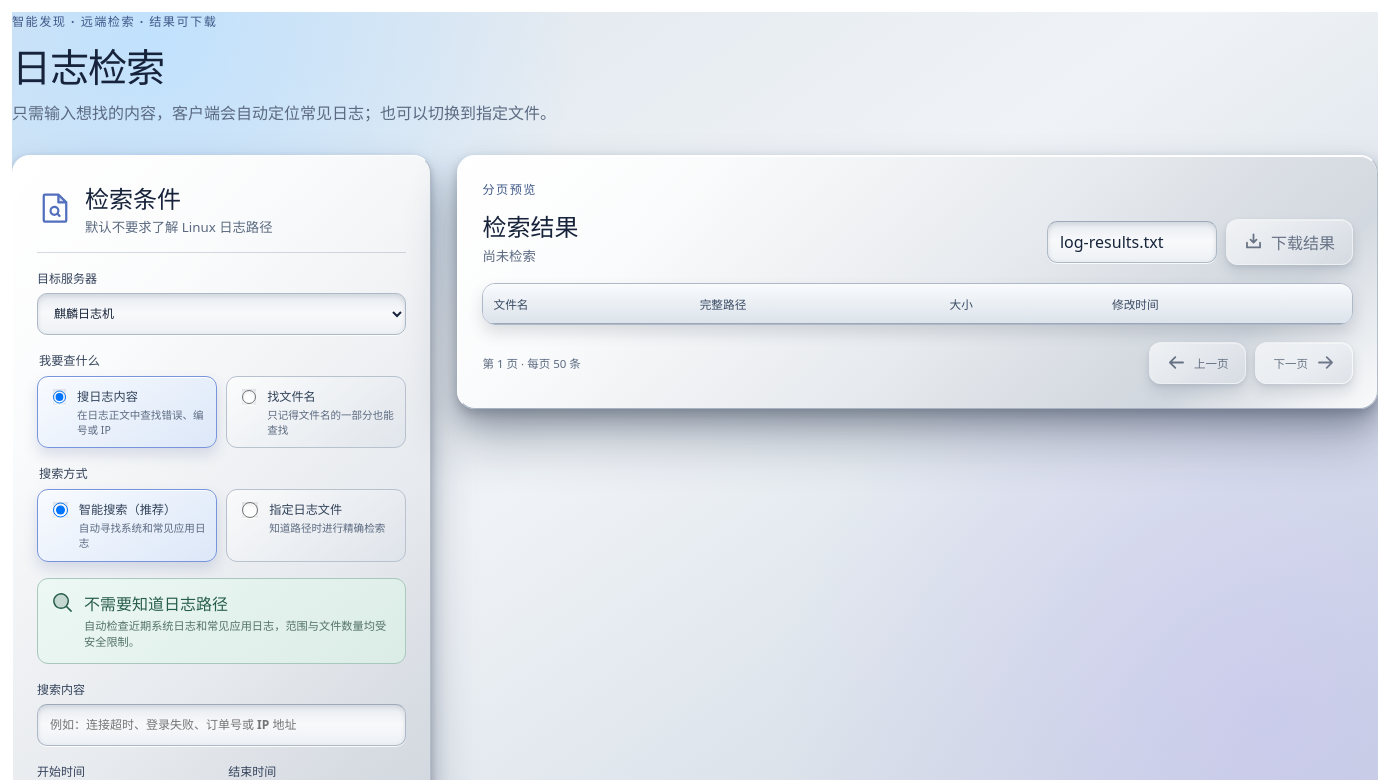
LogSearchPage › shows an empty state and classified permission guidance without raw stacks
The image size is (1378, 780).
In the field labelled "搜索内容": (222, 724) 37,704 -> 406,746, type "ERROR"
(page scrolled)
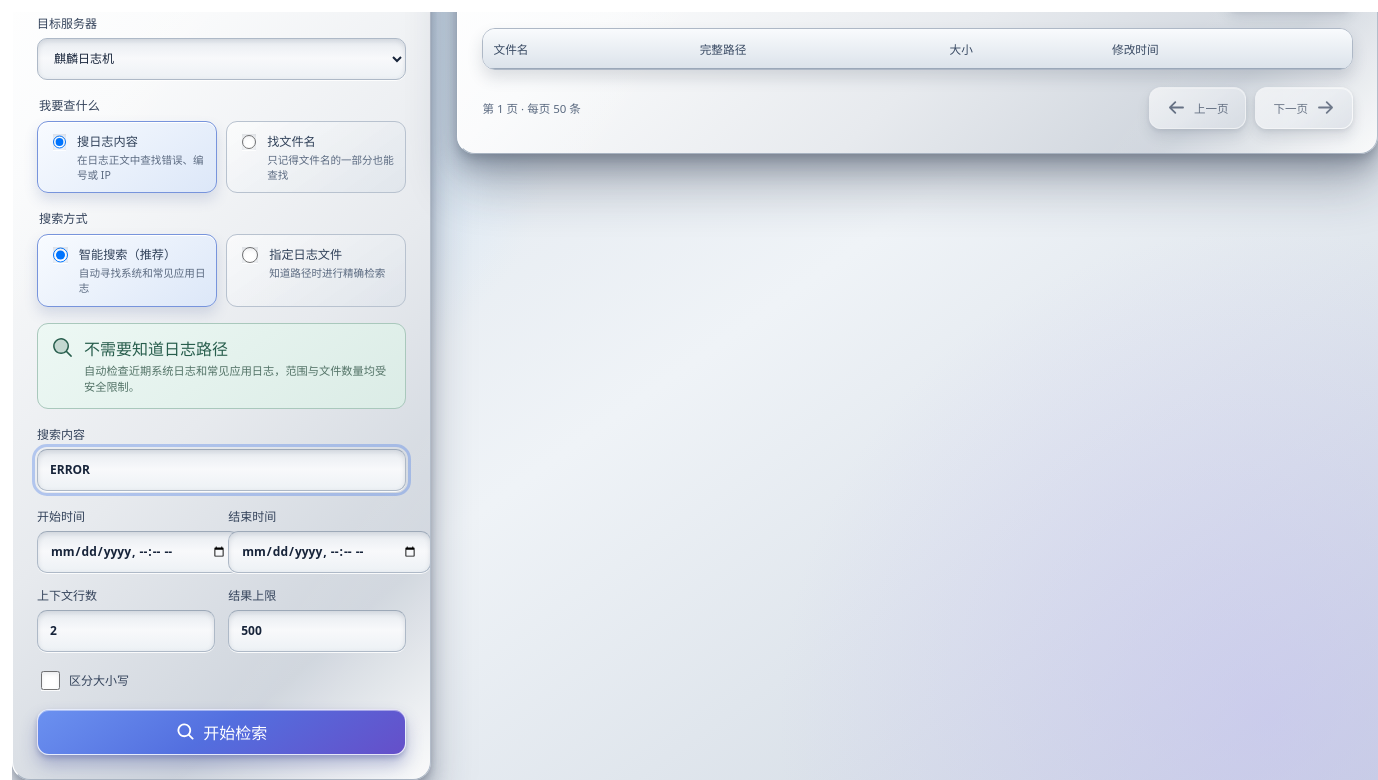
Click the button "开始检索": click(222, 732) 37,708 -> 406,754
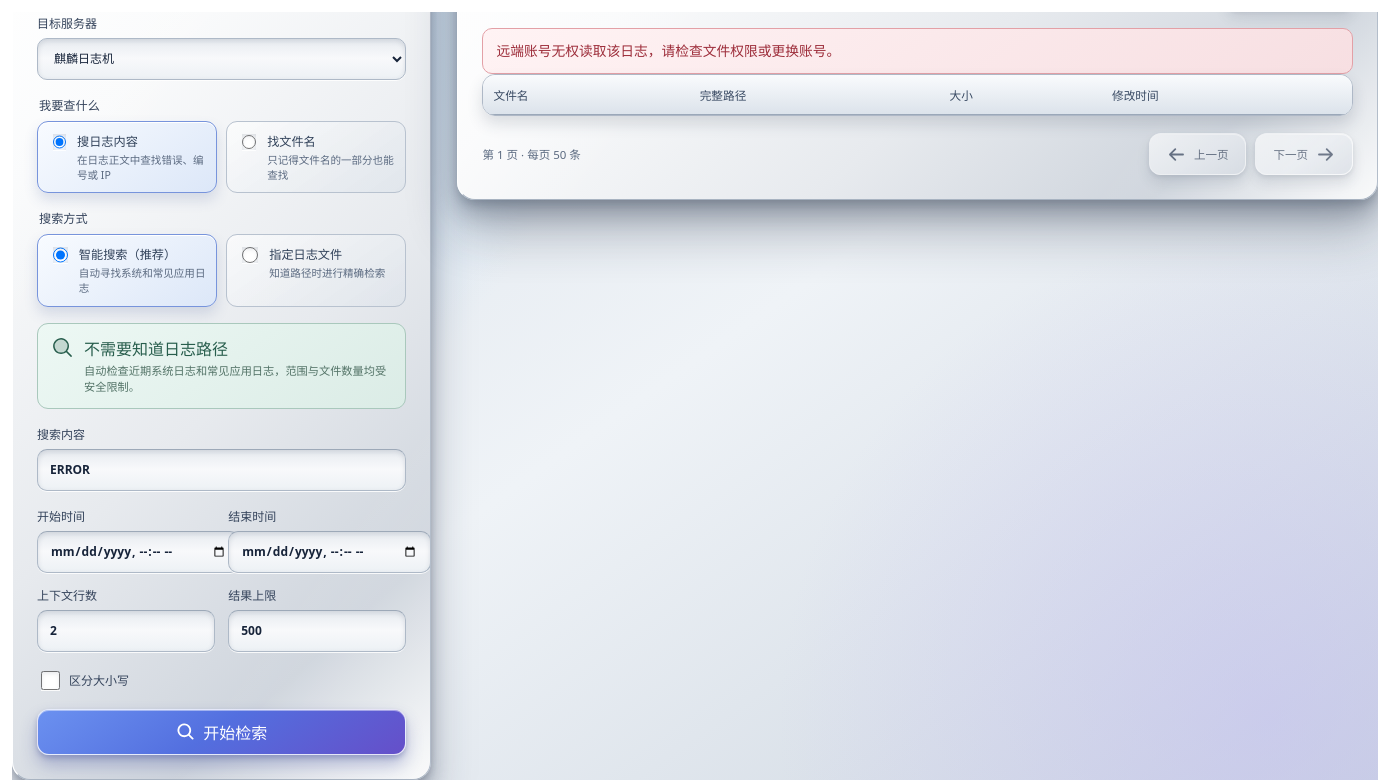
Result: the text "远端账号无权读取该日志，请检查文件权限或更换账号。" is shown at 482,28 -> 1353,74
